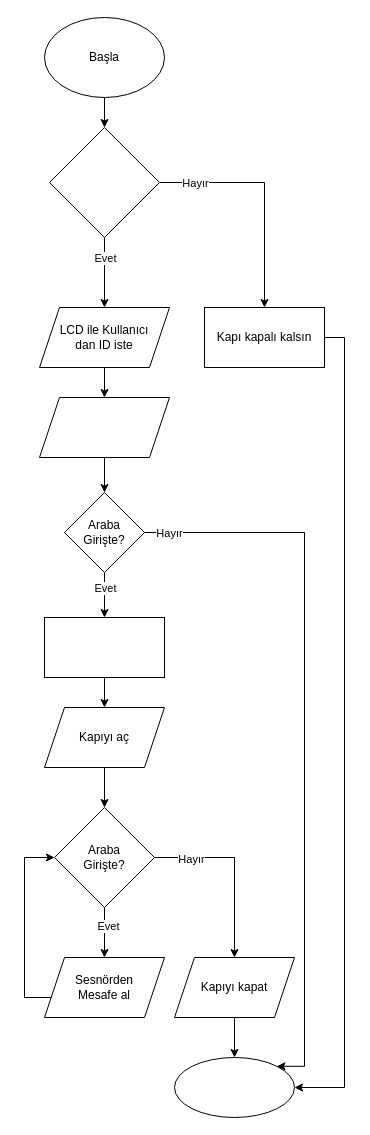
Some shapes in this 370 by 1135 pixel diagram are drawn without their labels. The shapes that lost their labels are listed below. From the top down, each one's centre as x and y in pixels, then its label:
the point at 104,182: Araba var mı 6 cm
the point at 104,427: Nodemcu (Blynk) den ID al
the point at 104,647: Arabaya özel ID Tanımla
the point at 234,1087: Bitir
